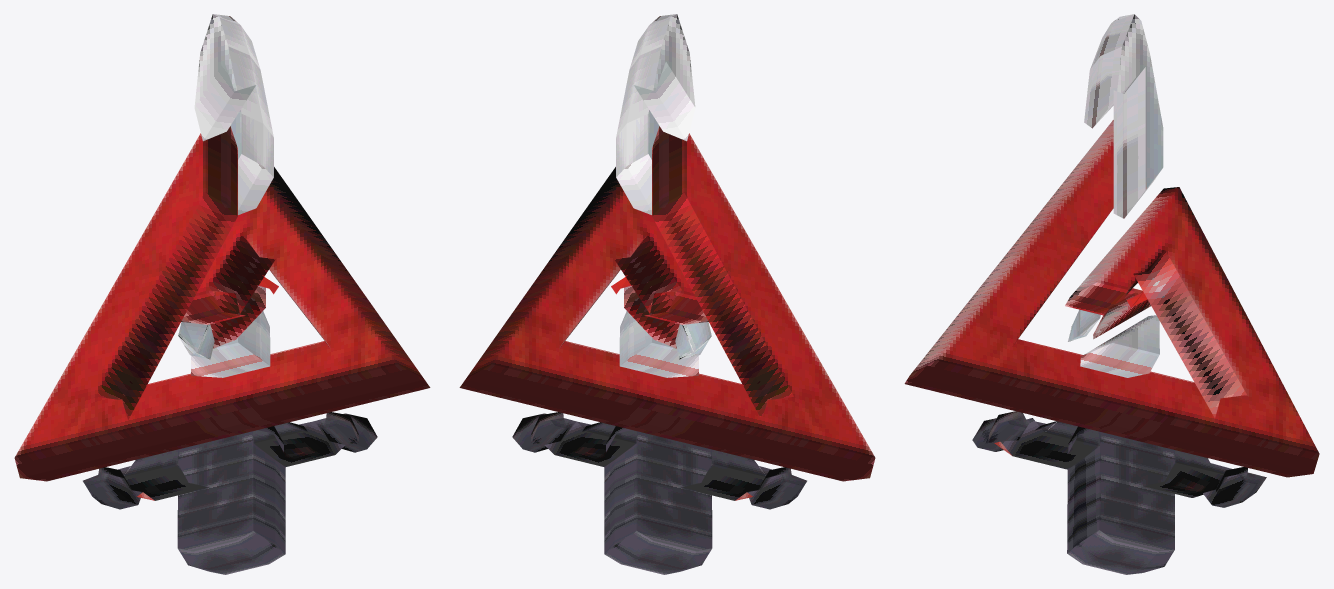
File: ps2_save-icons_deltaforceblackhawkdownteamsabre.glb
The picture shows the model from 3 angles, left to right: view 1: azimuth 30°, elevation 25°; view 2: azimuth 150°, elevation 25°; view 3: azimuth 330°, elevation 25°; orthographic projection.
Parts seen in each view (by area): view 1: MCIcon_BHD_Icon.icn; view 2: MCIcon_BHD_Icon.icn; view 3: MCIcon_BHD_Icon.icn.
Boxes of the visible parts, x1=… form: MCIcon_BHD_Icon.icn: x1=14, y1=14, x2=430, y2=574; MCIcon_BHD_Icon.icn: x1=459, y1=14, x2=875, y2=574; MCIcon_BHD_Icon.icn: x1=904, y1=14, x2=1319, y2=574.
Bounding box in the file's own units: 3.86 × 5 × 0.5347.
Materials: 1 (1 with a texture image).
